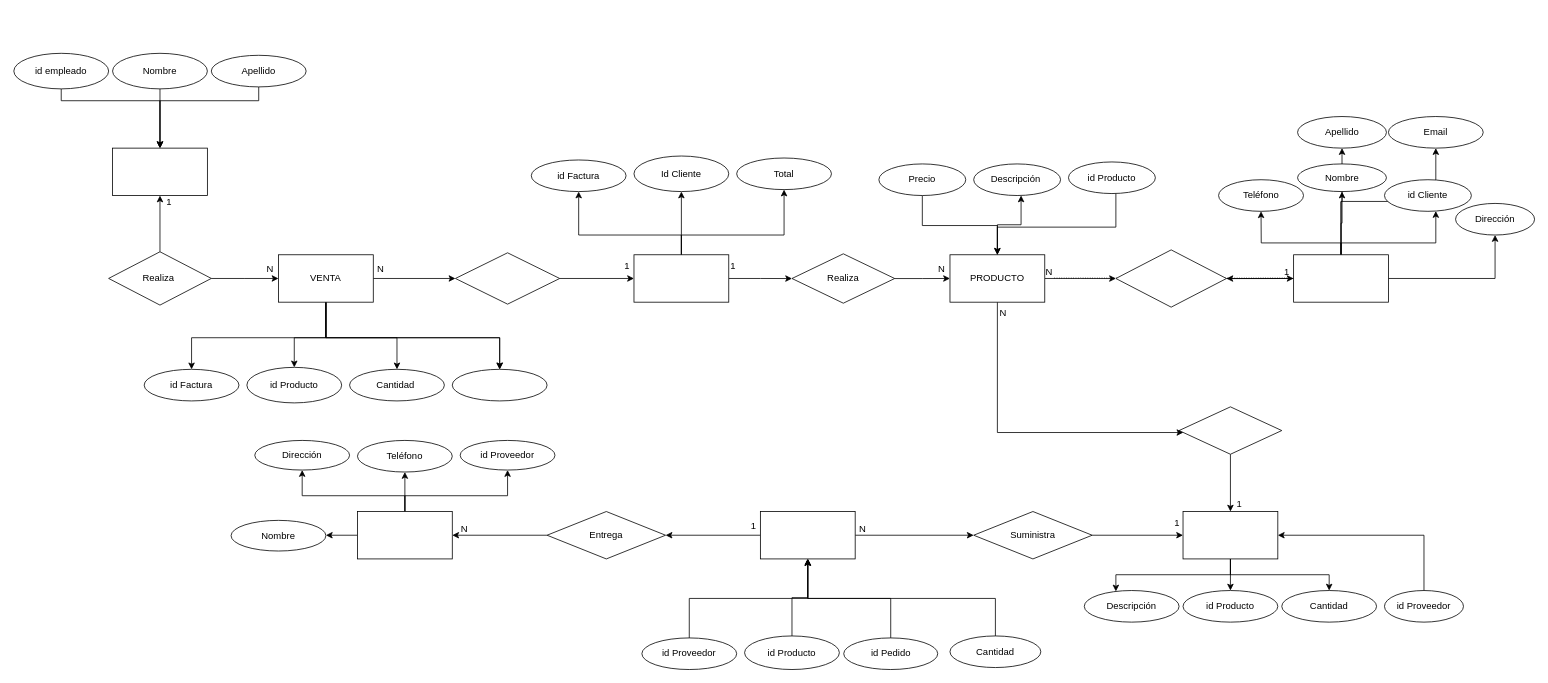
Some shapes in this 1548 by 683 pixel diagram are drawn without their labels. The box of each missing label's shape, as (x1, y1, x2, y2) in pixels:
ALMACÉN: (1182, 511, 1278, 559)
CLIENTE: (1293, 254, 1388, 302)
Compra: (1115, 249, 1226, 307)
EMPLEADO: (112, 147, 207, 196)
FACTURA: (633, 254, 729, 302)
Genera: (455, 252, 560, 304)
PEDIDO: (760, 511, 855, 559)
PROVEEDOR: (357, 511, 452, 559)
Reabastecer: (1178, 406, 1282, 454)
Subtotal: (451, 369, 547, 401)
